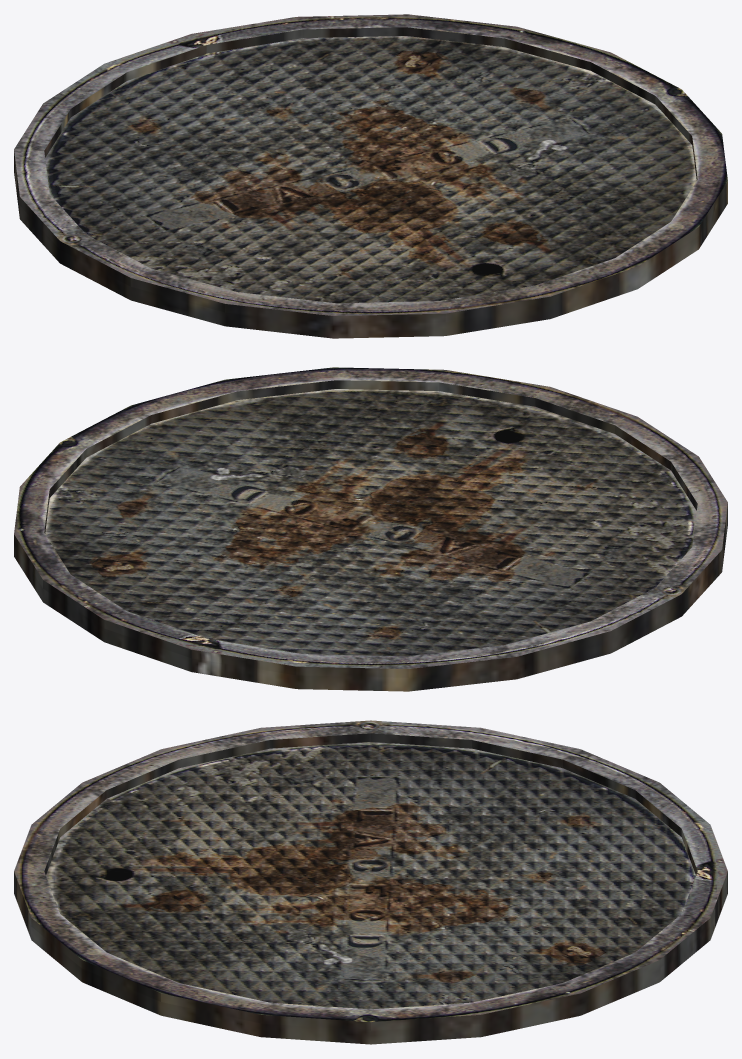
File: SewerProp01.fbx
The picture shows the model from 3 angles, top to bottom: view 1: azimuth 30°, elevation 25°; view 2: azimuth 150°, elevation 25°; view 3: azimuth 270°, elevation 25°; orthographic projection.
Parts seen in each view (by area): view 1: SewerProp01; view 2: SewerProp01; view 3: SewerProp01.
Part boxes in pixels (x1=…): SewerProp01: x1=14, y1=14, x2=727, y2=338; SewerProp01: x1=14, y1=367, x2=727, y2=691; SewerProp01: x1=14, y1=720, x2=727, y2=1044.
Size of the model in its own units: 31.56 by 1.09 by 31.56.
